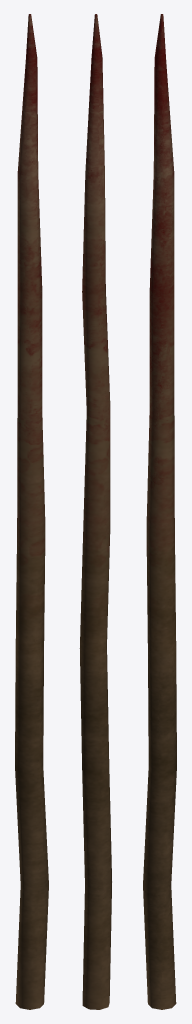
File: wand.glb
3 renders of one model, left to right at view 1: azimuth 90°, elevation 25°; view 2: azimuth 150°, elevation 25°; view 3: azimuth 270°, elevation 25°, orthographic.
Visible parts, largest first — view 1: Spike; view 2: Spike; view 3: Spike.
Part boxes in pixels (x1,y1,x2,y2): Spike: [15, 14, 48, 1009]; Spike: [79, 14, 111, 1009]; Spike: [143, 14, 176, 1009].
Bounding box in the file's own units: 5.47 × 183 × 5.73.
1 material, 1 textured.
